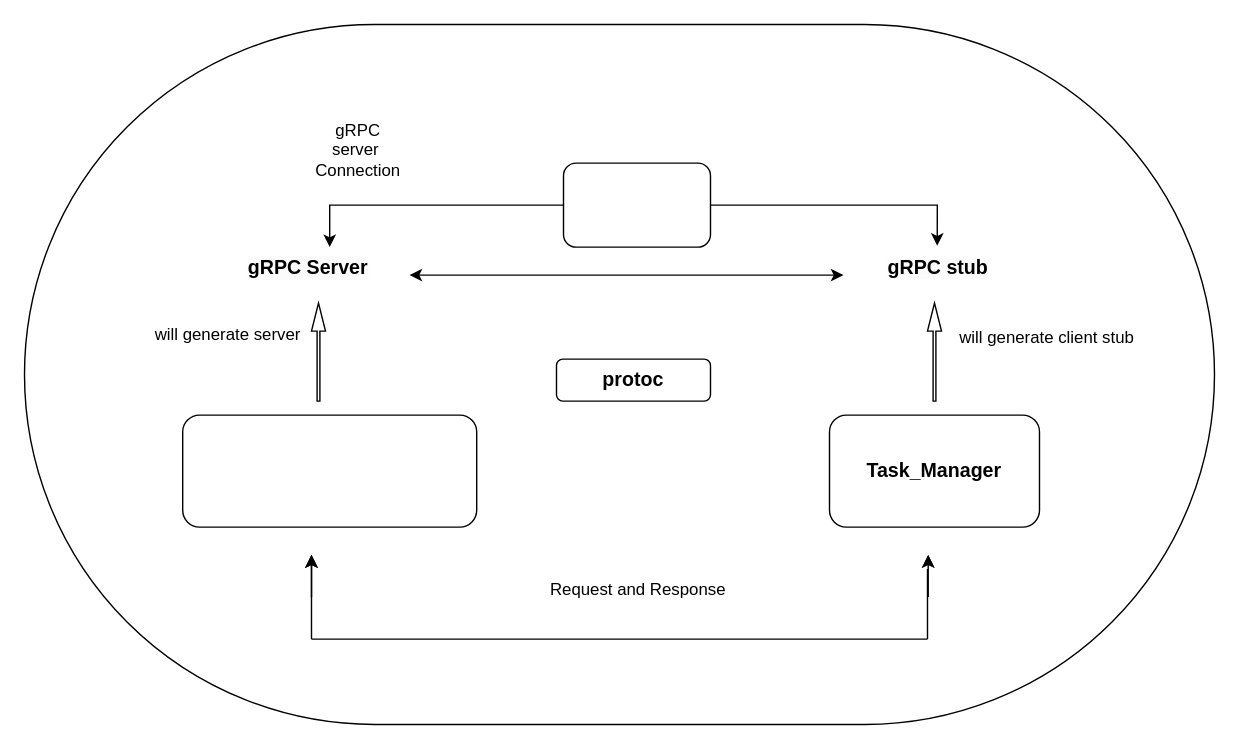
This 1239x749 diagram has some shape labels left out. Each missing label, with the centre of its shape:
".proto file" belongs at (636,204).
"authentication" belongs at (329,470).
